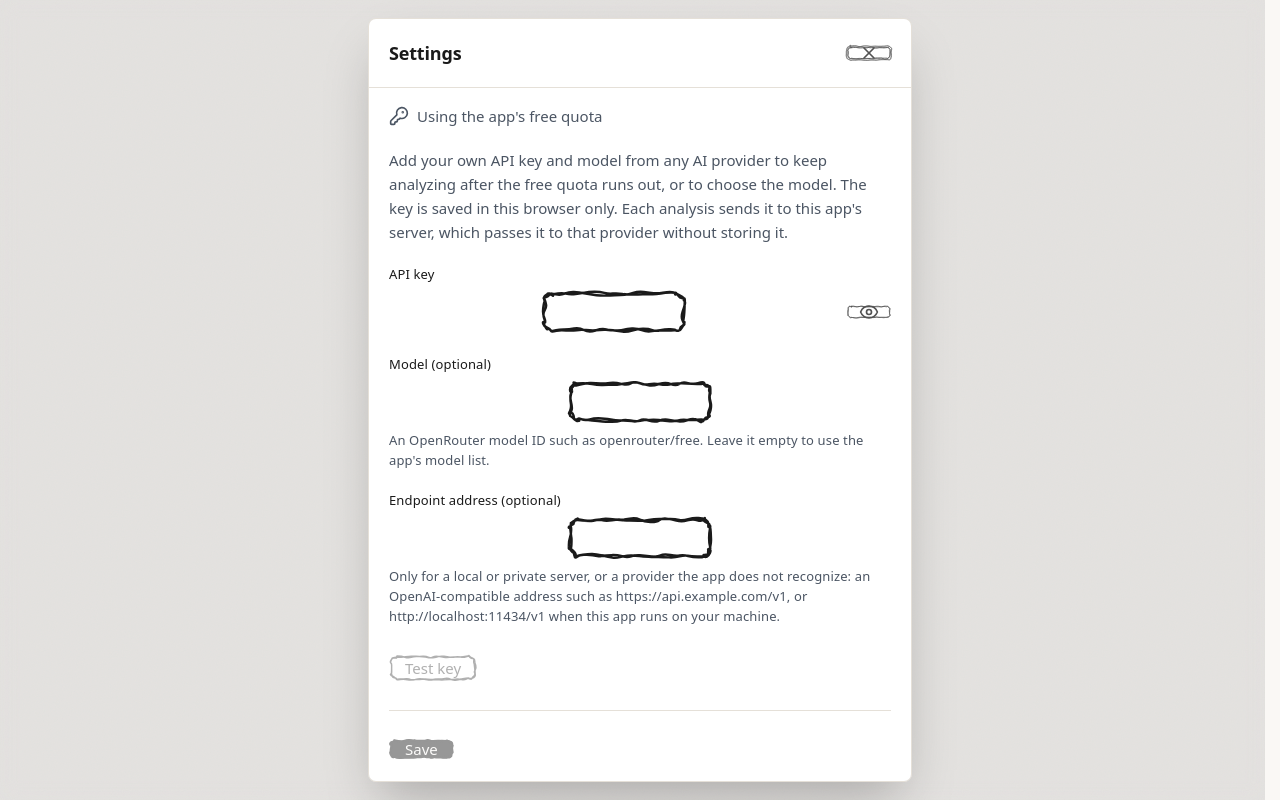
Test case: ByokModal (FEAT-05, StyleGuide §7.3) › refuses an address with a login or a query
In the password field labelled "API key": [614, 312] box top-left (389, 290), bottom-right (839, 334), type "mystery-key-0000"
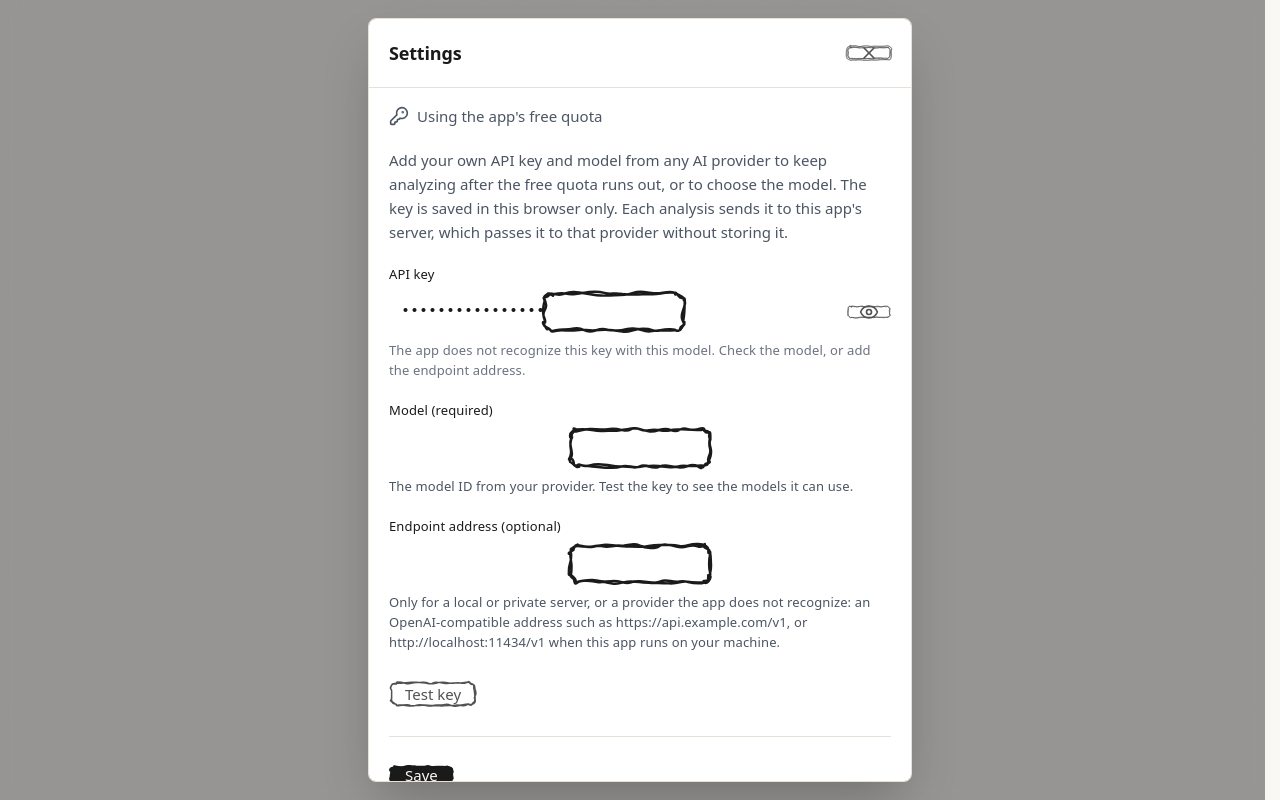
In the field labelled "Model (required)": [640, 448] box top-left (389, 426), bottom-right (891, 470), type "llama3"
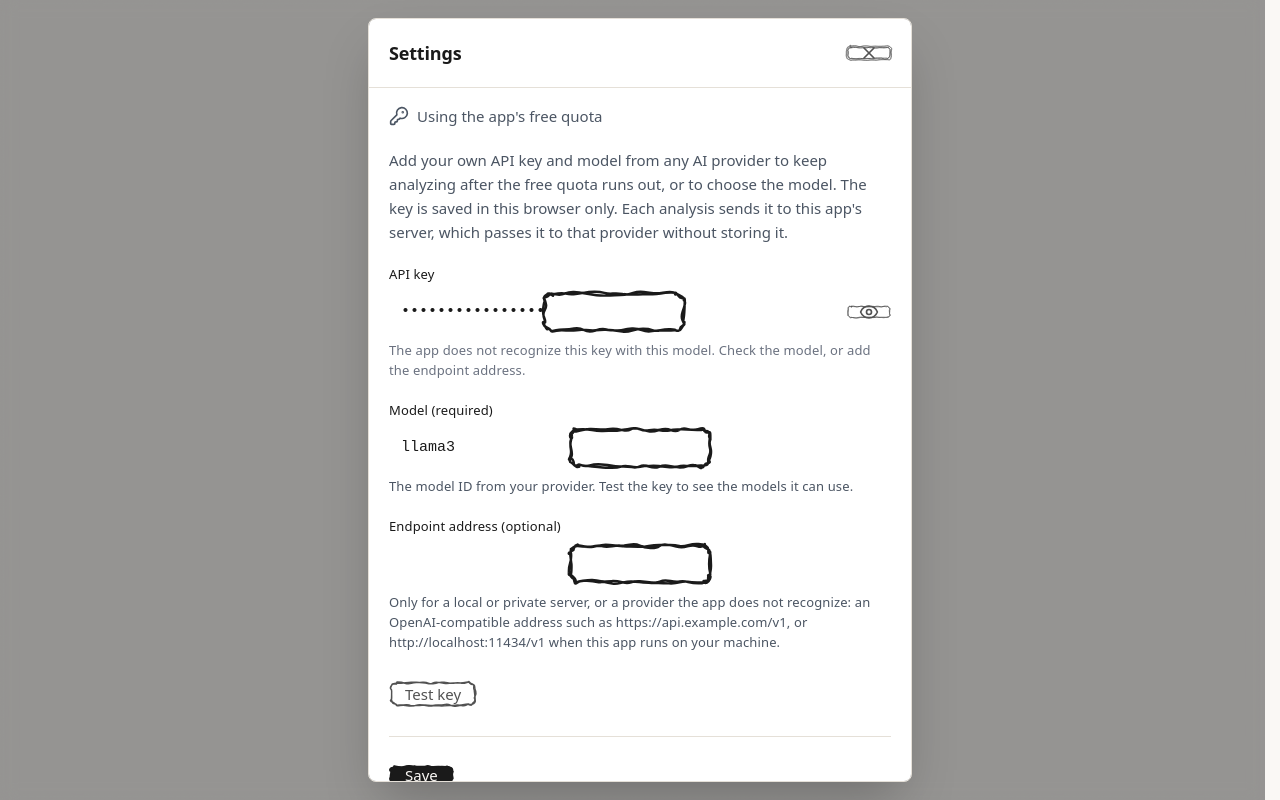
In the field labelled "Endpoint address (optional)": [640, 564] box top-left (389, 542), bottom-right (891, 586), type "https://user:pass@api.example.com/v1"
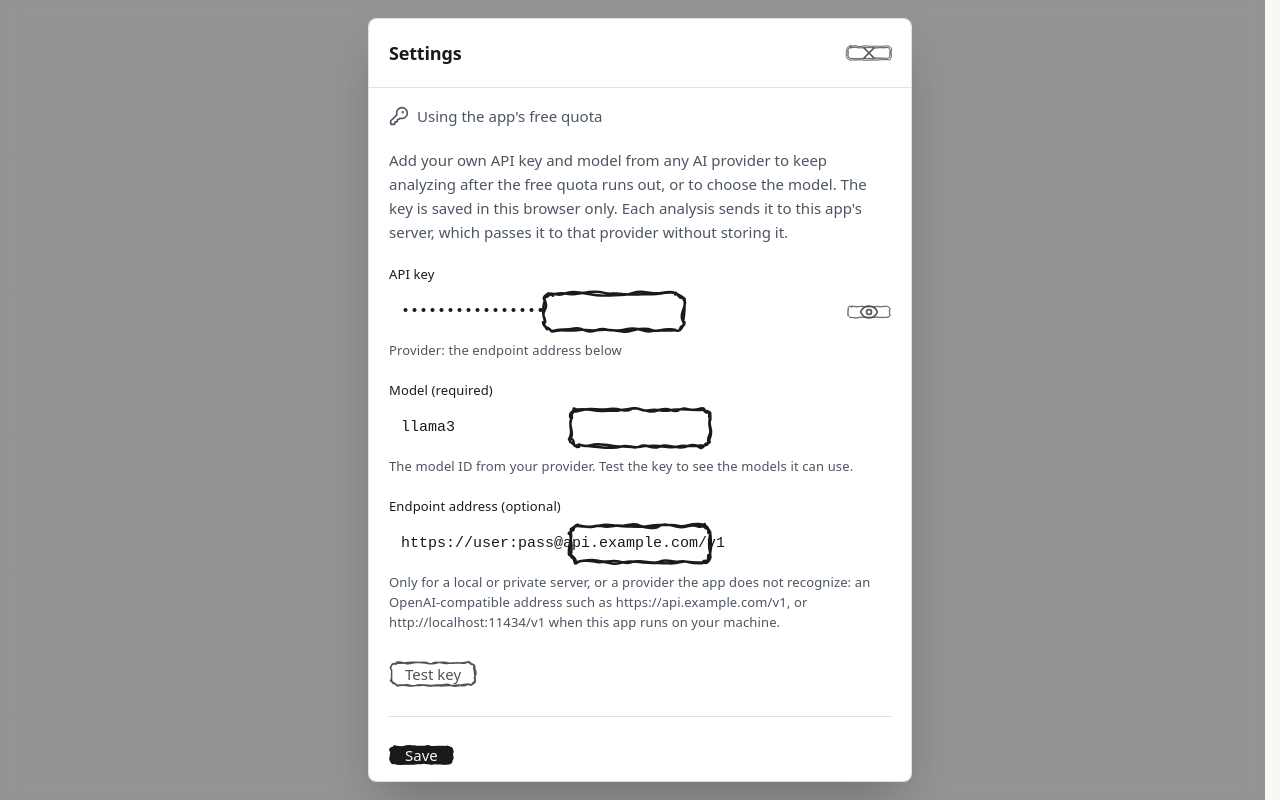
Click the button "Save": [421, 755] box top-left (389, 733), bottom-right (454, 777)
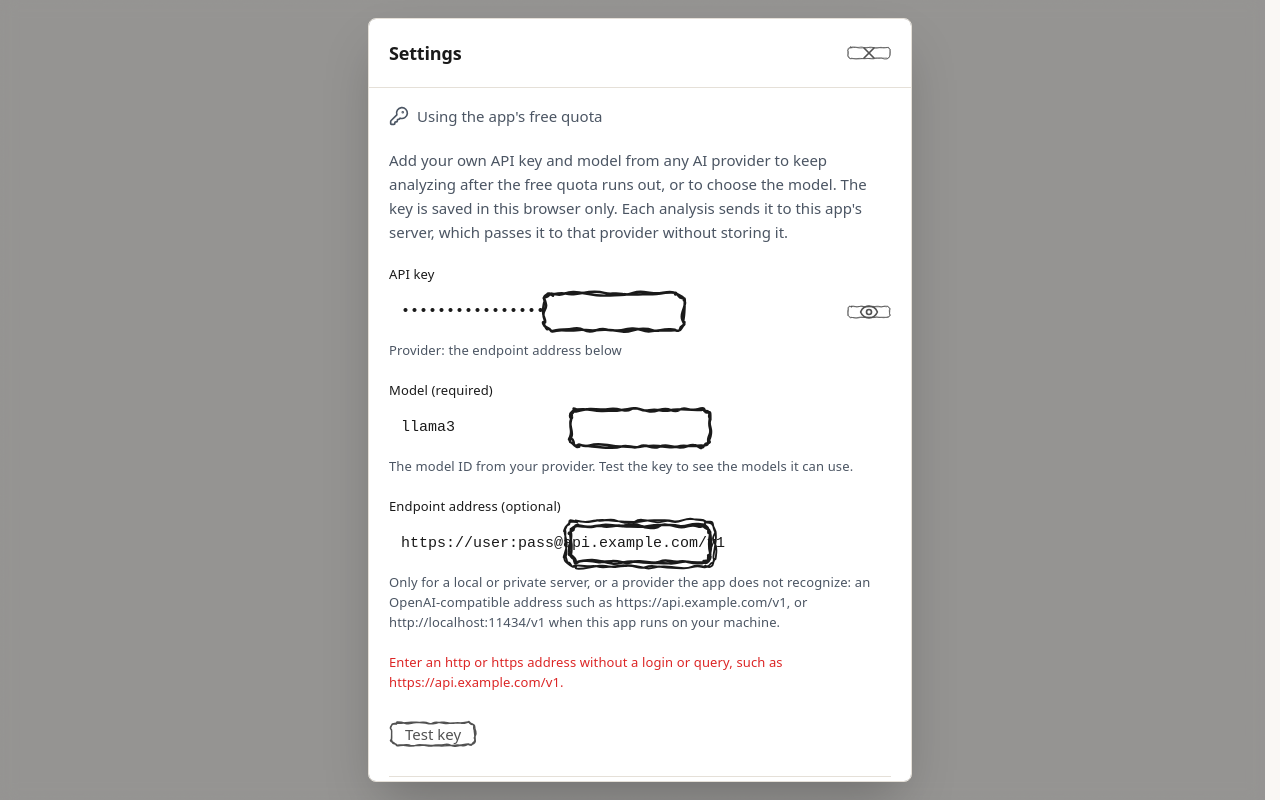
Expected: the 2nd message shows "Enter an http or https address without a login or query", top-left (389, 653), bottom-right (783, 691)
